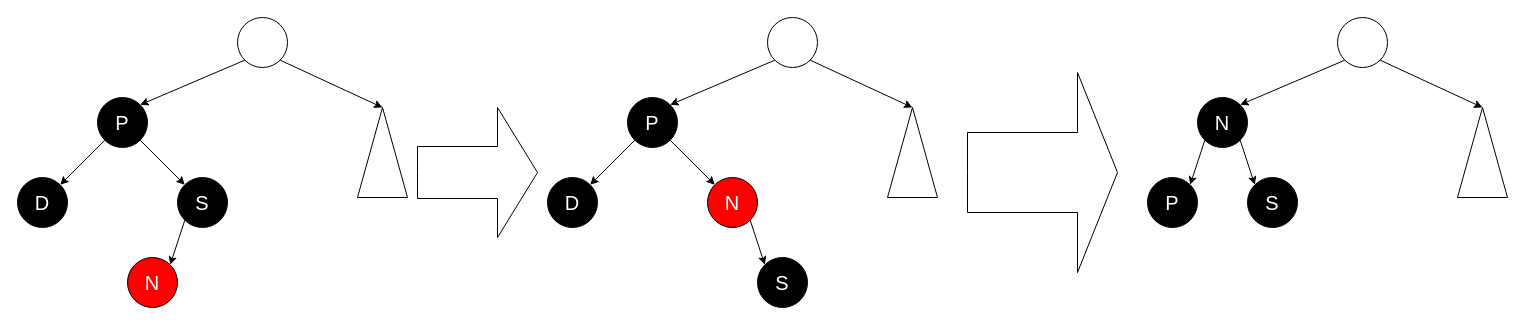
Some shapes in this 1525 by 325 pixel diagram are drawn without their labels. The centre of each missing label's shape, as x and y in pixels:
"P向左旋转 N设置为黑色 最后就删除D" goes at (x=1042, y=172).
"S向右旋转" goes at (x=477, y=172).
